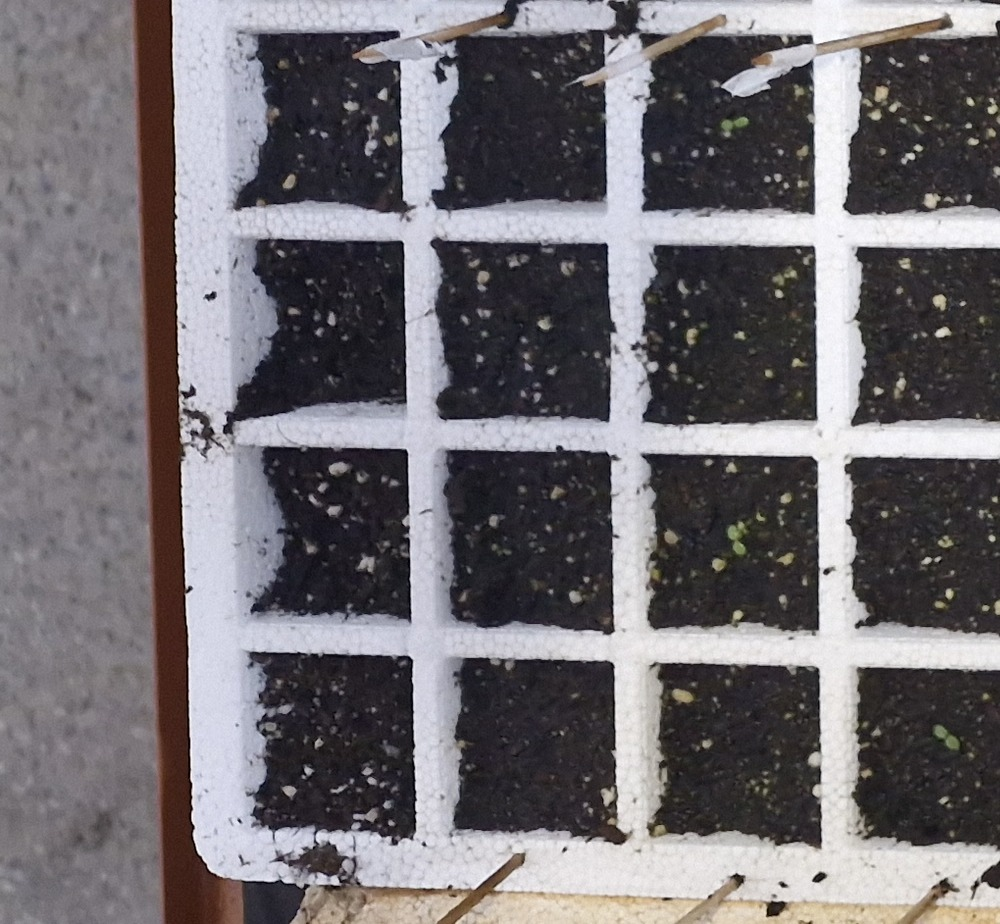Folha: (946, 735, 961, 749), (729, 525, 741, 539), (733, 117, 749, 127), (935, 726, 947, 739), (734, 540, 745, 554), (721, 120, 734, 129)
Germinacao: (933, 726, 960, 749), (729, 525, 746, 555), (721, 117, 749, 131)
